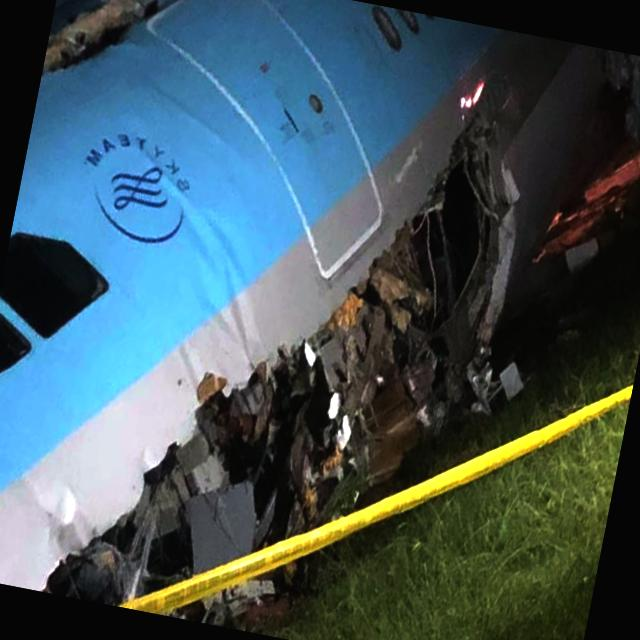crack: (43, 0, 210, 93)
